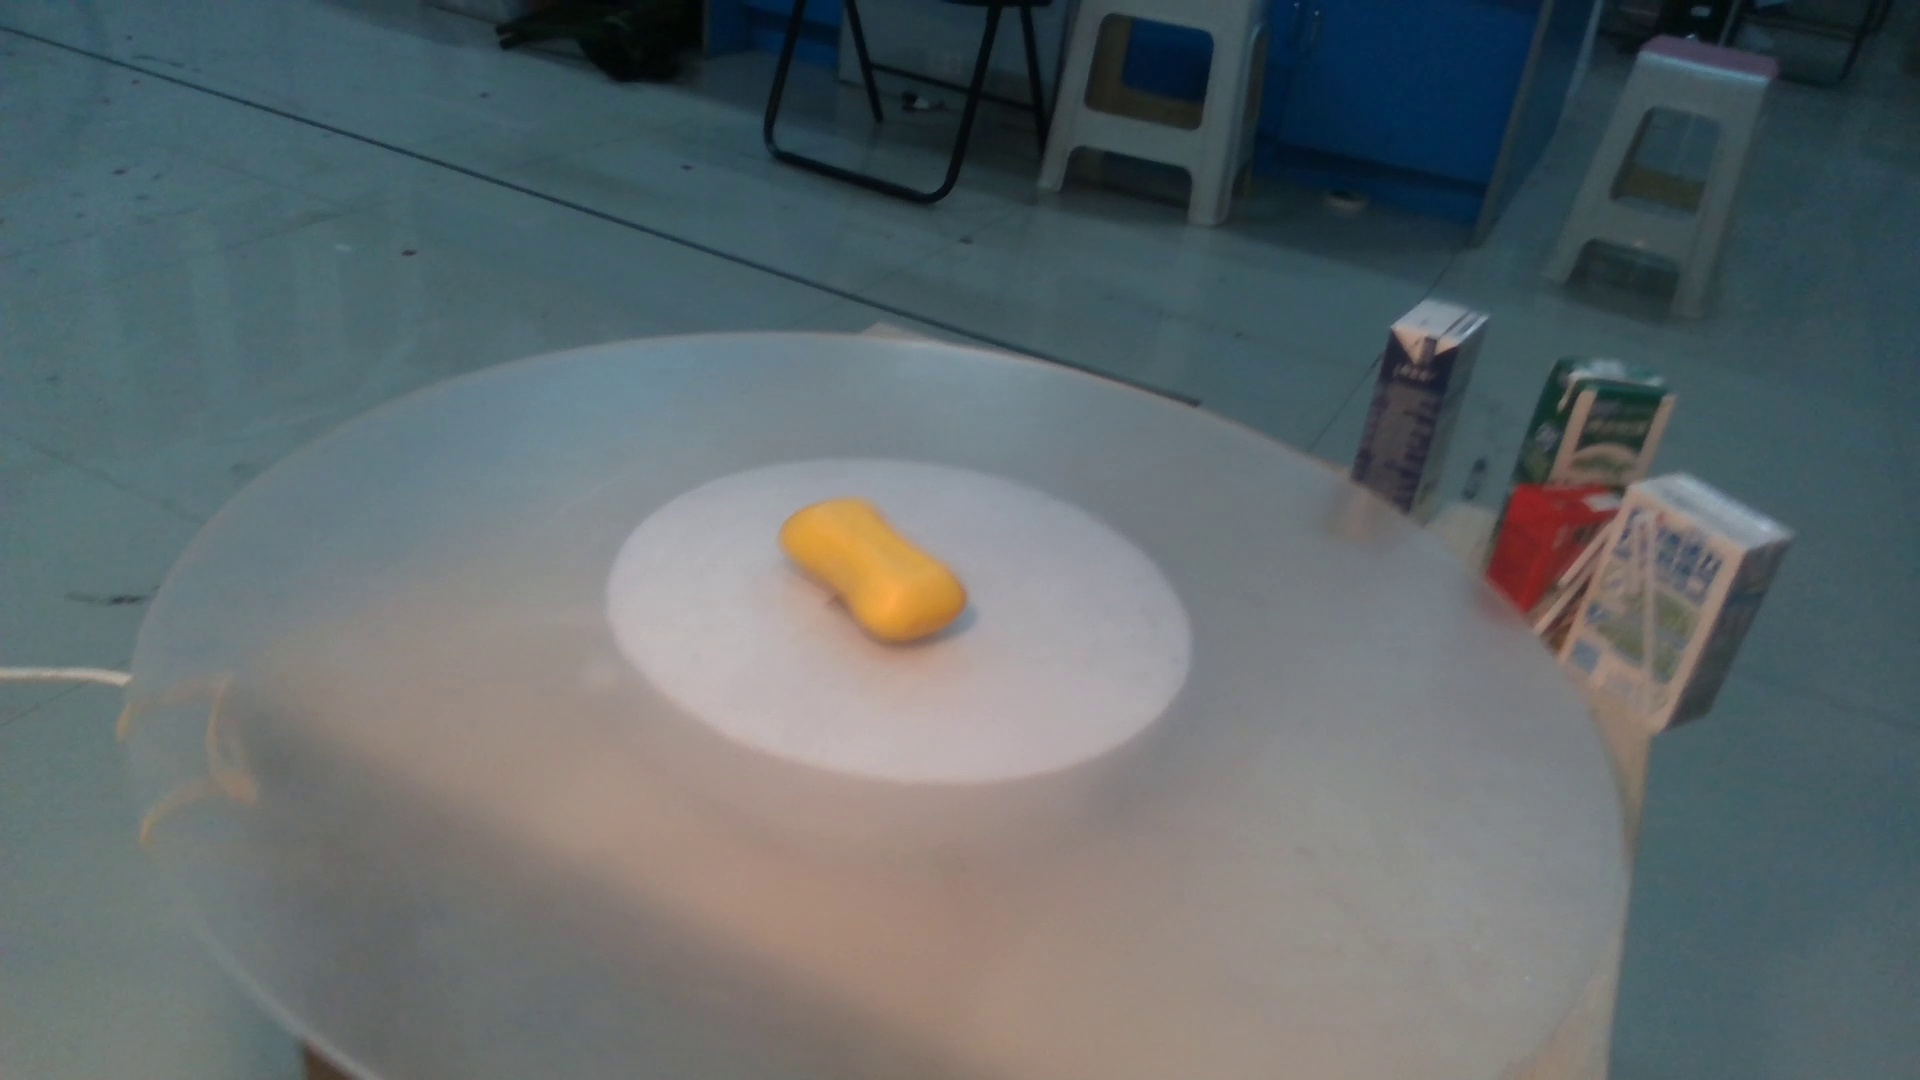CA003_1: (757, 463, 986, 665)
